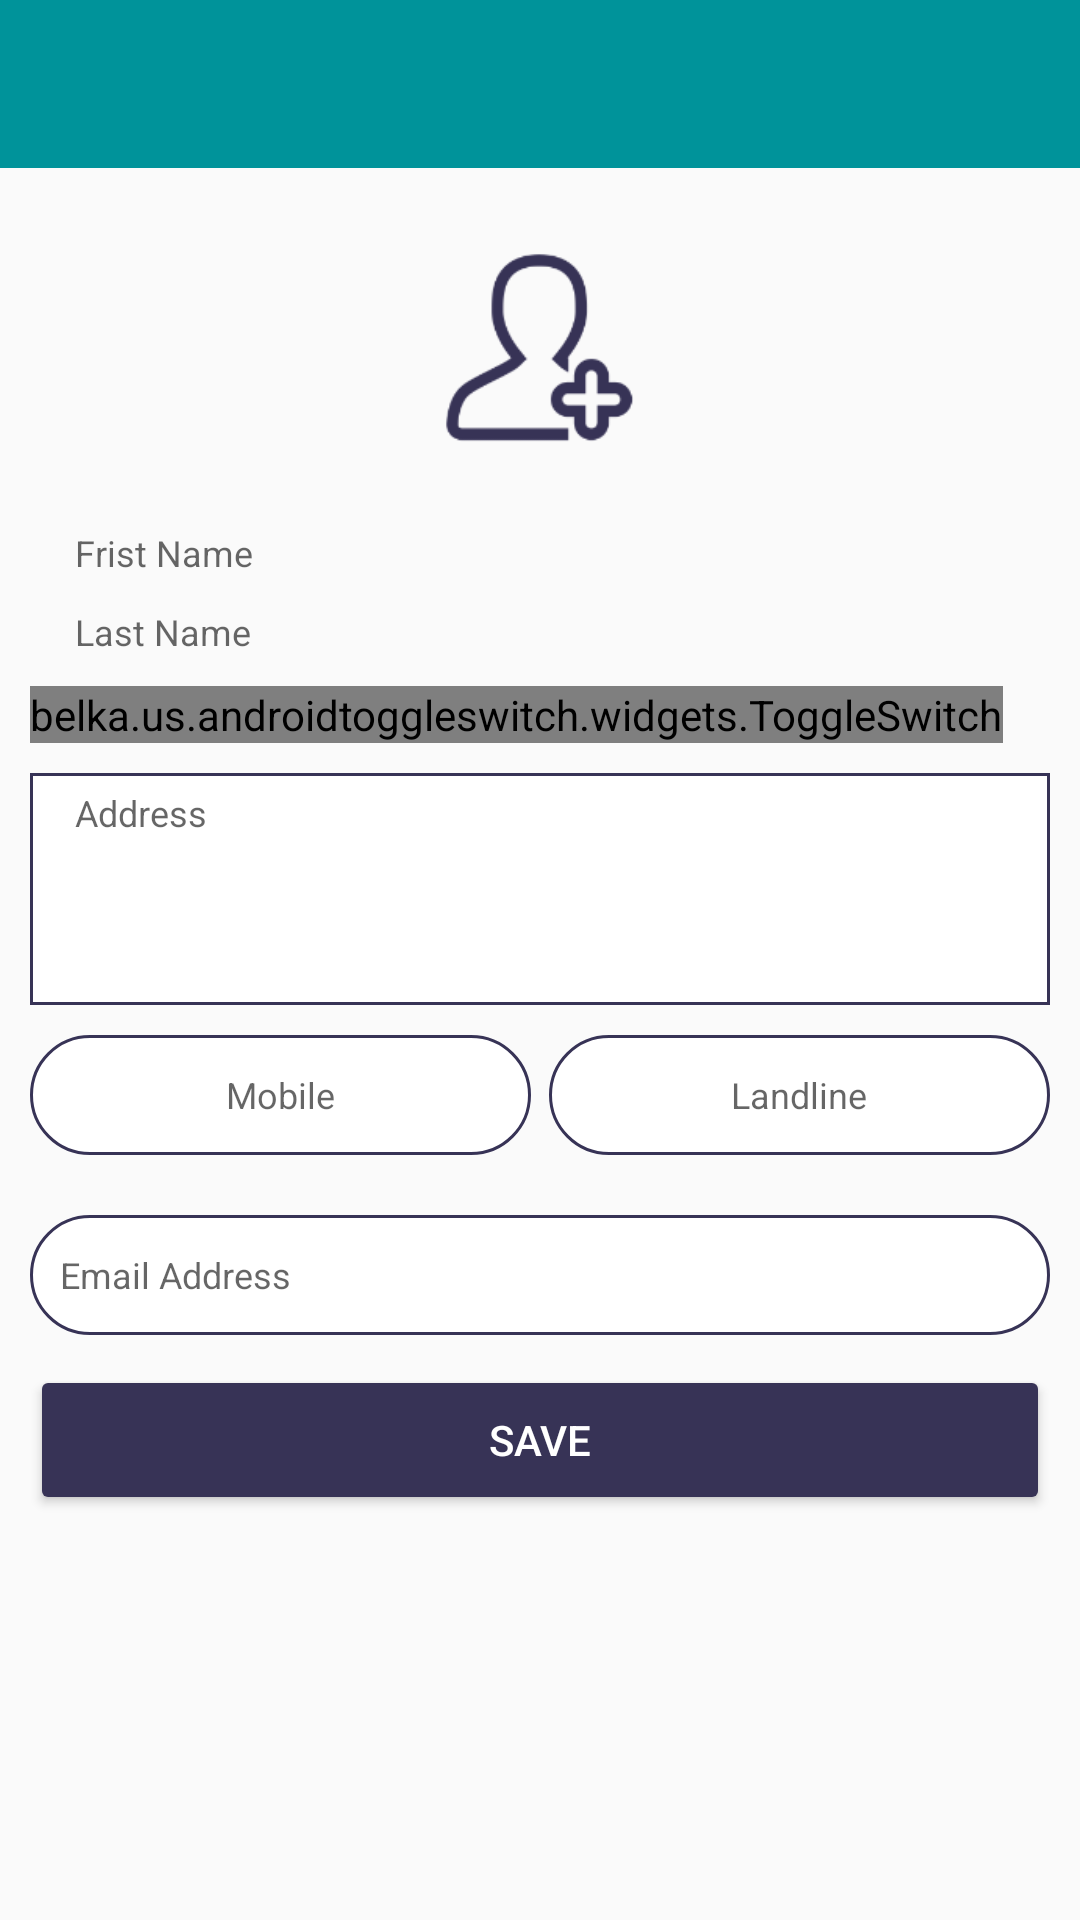

Named icons in this screenshot (1080*1920) and their centers, (x=x, y=y):
add user: (x=539, y=347)
